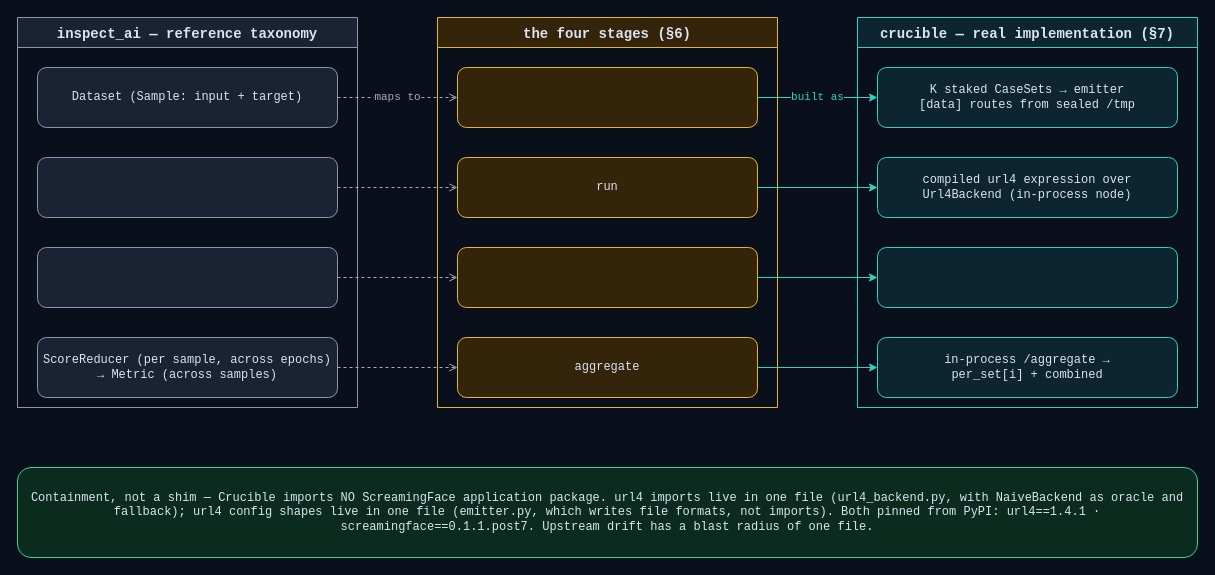
This 1215x575 diagram has some shape labels left out. Here are the shapes that lost their labels. From the top down, the centre of each, then its label:
At point (607, 97): "load".
At point (187, 187): "@solver".
At point (187, 277): "@scorer".
At point (607, 277): "grade".
At point (1027, 277): "in-enclave /judge route κ-validated vs human labels".
